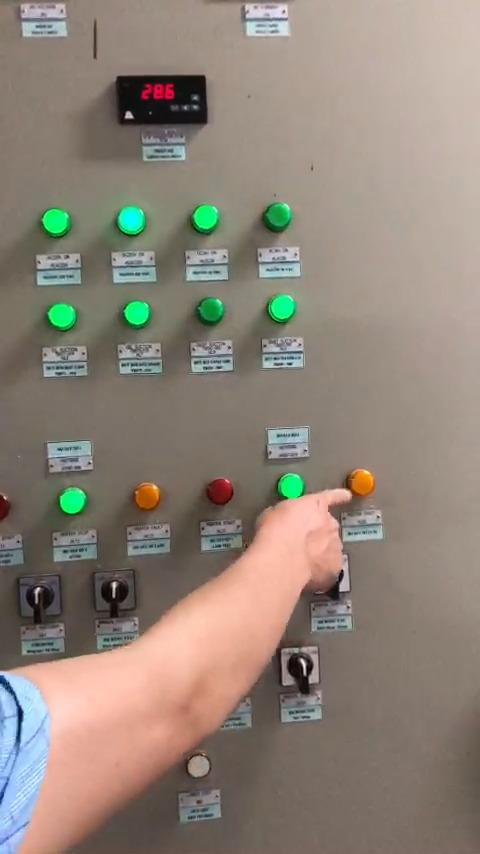led: (189, 203, 224, 236), (274, 472, 306, 503), (265, 202, 296, 233), (43, 208, 74, 239), (203, 474, 233, 506), (60, 486, 90, 516), (347, 468, 376, 499), (185, 750, 214, 781), (120, 301, 150, 330), (132, 481, 161, 511), (195, 298, 225, 326), (48, 303, 77, 331), (118, 208, 146, 236), (267, 293, 295, 321), (0, 492, 19, 525)
twist: (18, 574, 63, 624), (92, 568, 138, 615), (282, 645, 321, 688)
